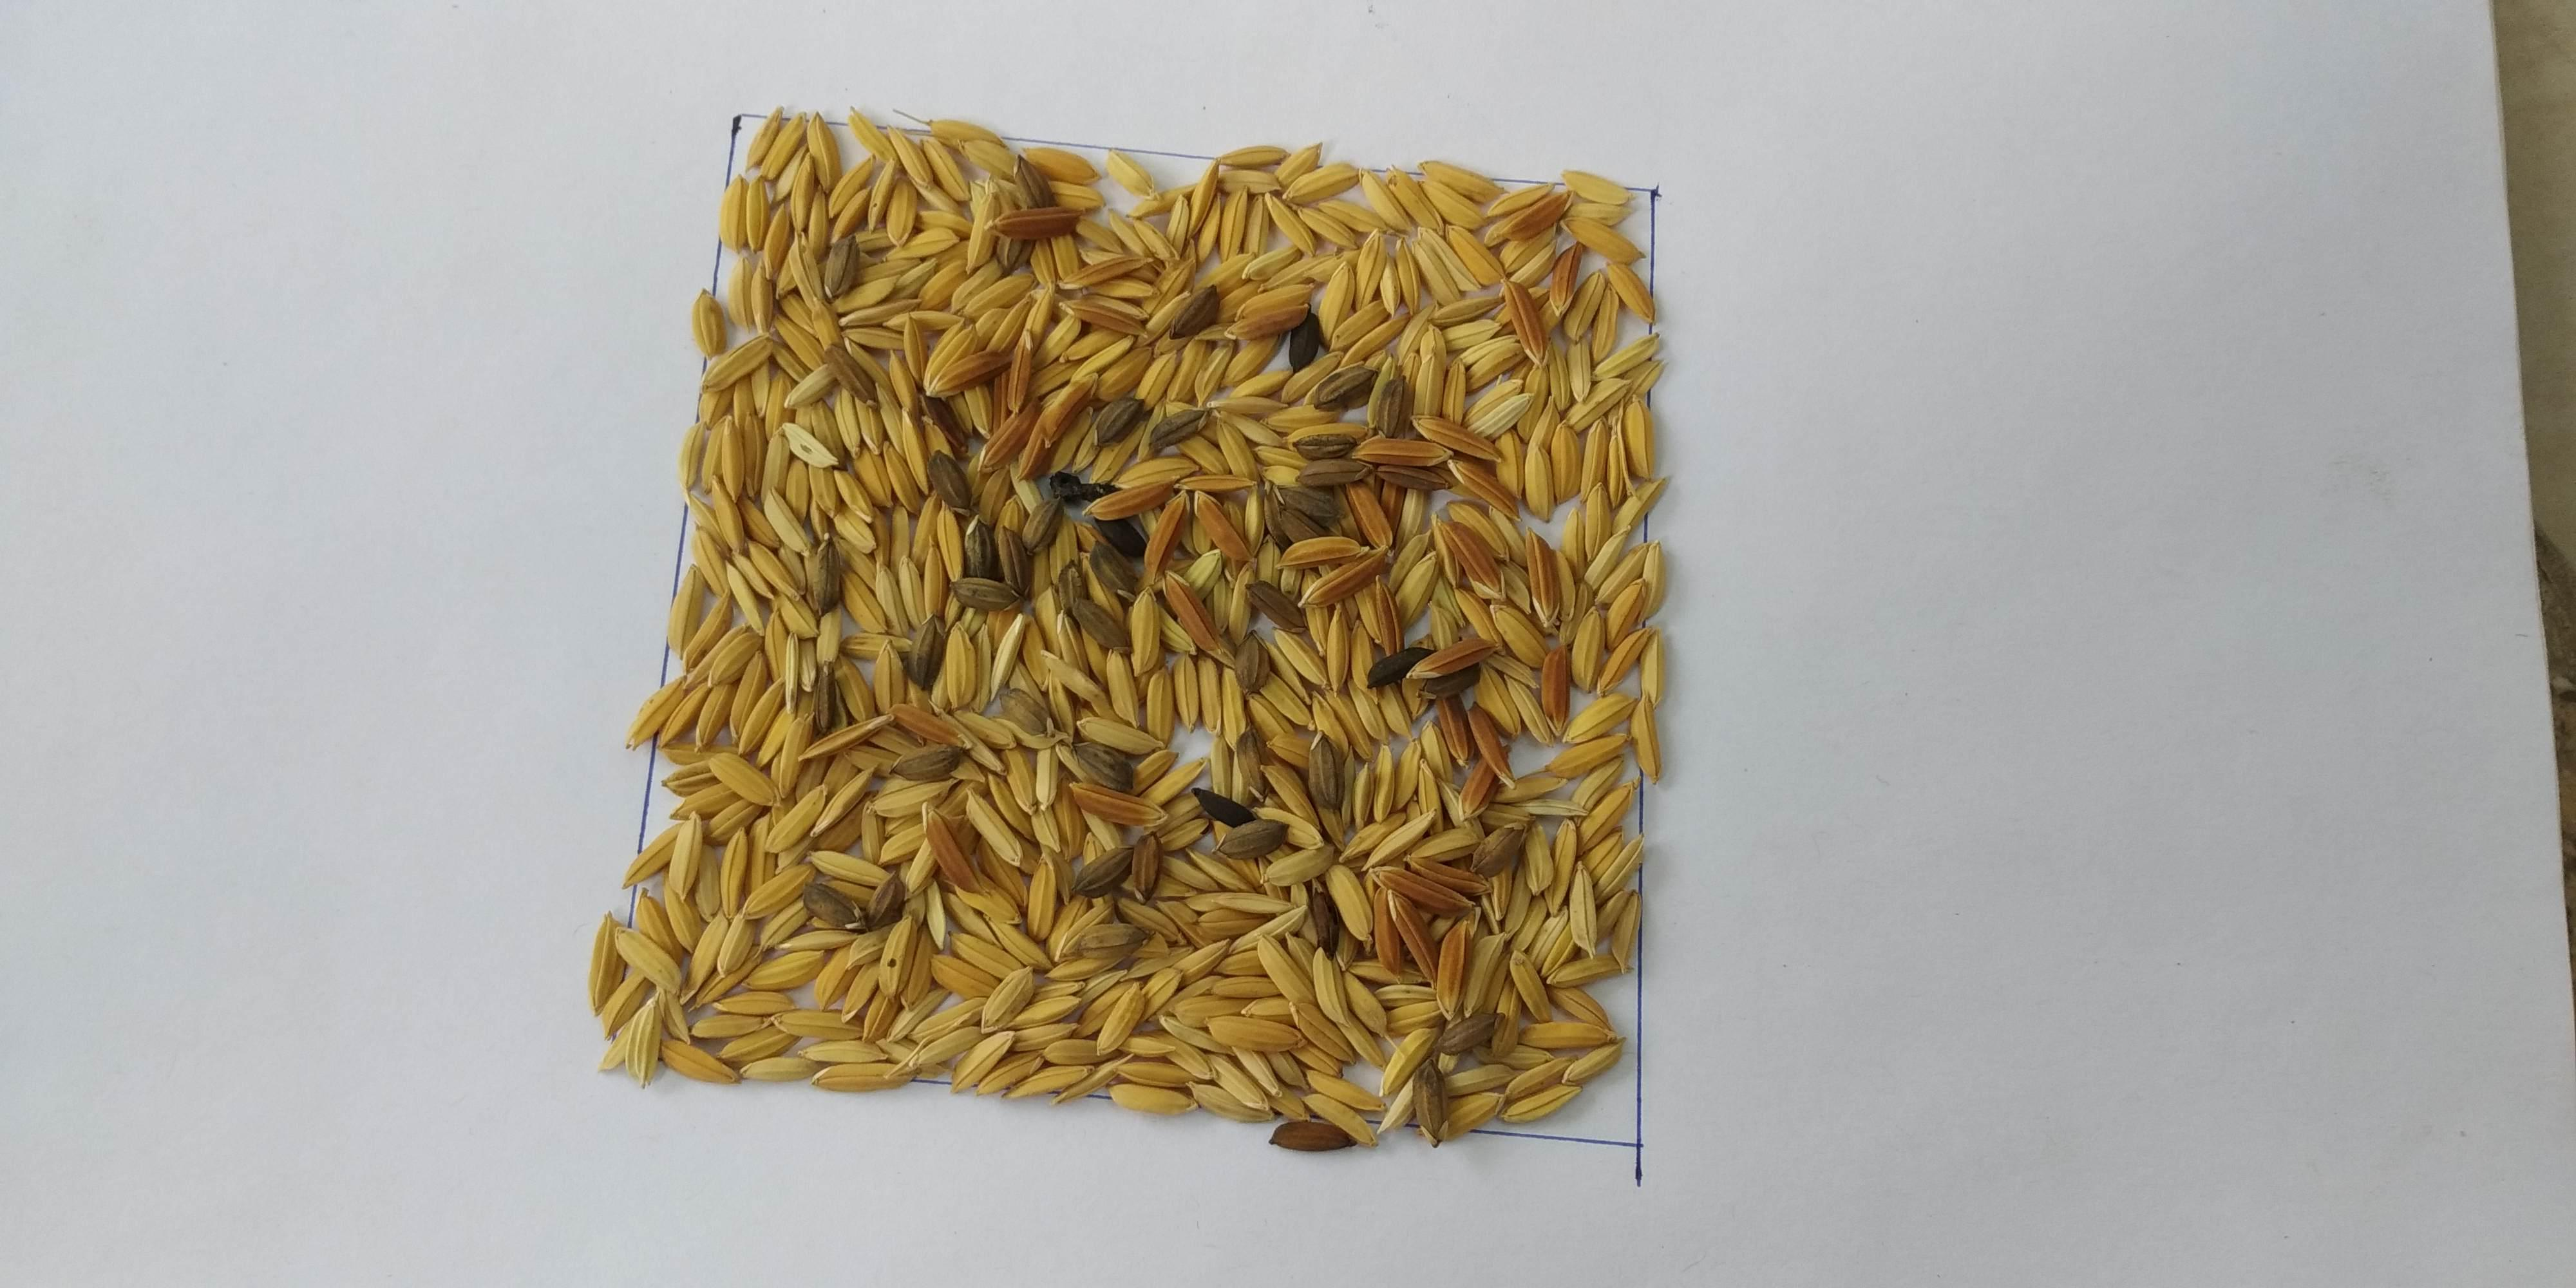impure: (738, 189, 1595, 1073)
